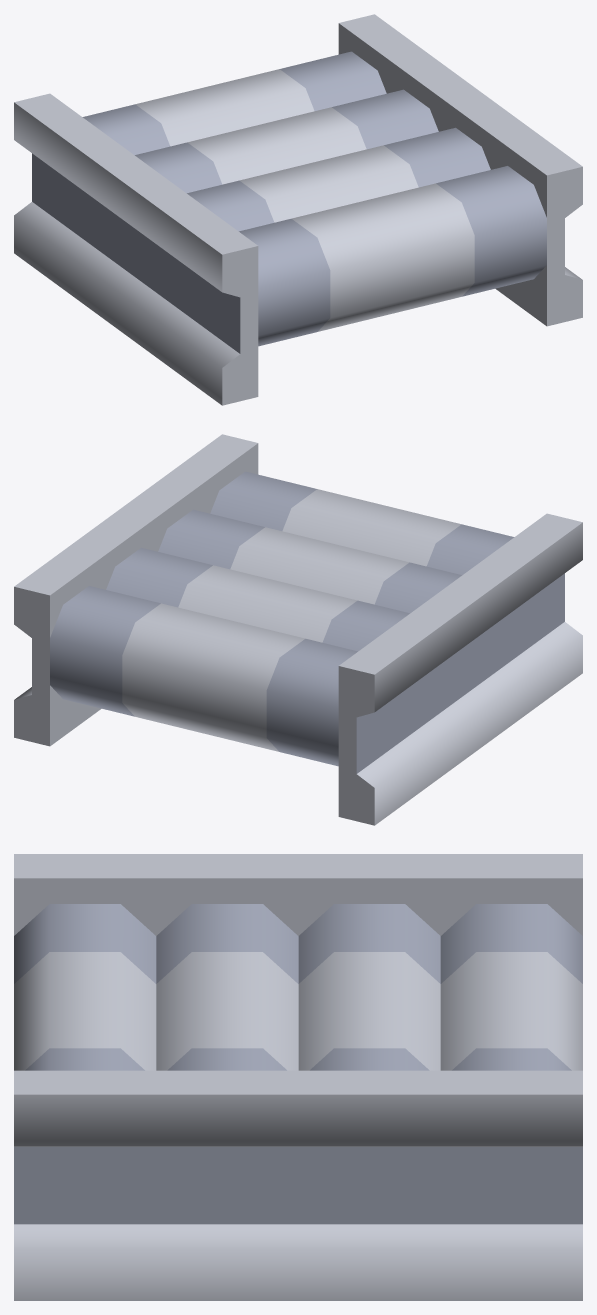
The model's file is conveyor-bars-stripe-high.fbx.
3 views of the same model, one above another, from view 1: azimuth 30°, elevation 25°; view 2: azimuth 150°, elevation 25°; view 3: azimuth 270°, elevation 25° (orthographic). The views are drawn at different scales.
Visible parts, largest first — view 1: Group.011, Group.010; view 2: Group.011, Group.010; view 3: Group.010, Group.011.
Boxes of the visible parts, x1,y1,x2,y2 form: Group.011: [82, 51, 546, 346]; Group.010: [14, 14, 582, 405]; Group.011: [50, 471, 514, 766]; Group.010: [14, 434, 582, 825]; Group.010: [14, 854, 582, 1300]; Group.011: [14, 904, 582, 1070].
Bounding box in the file's own units: 100 × 40 × 100.
